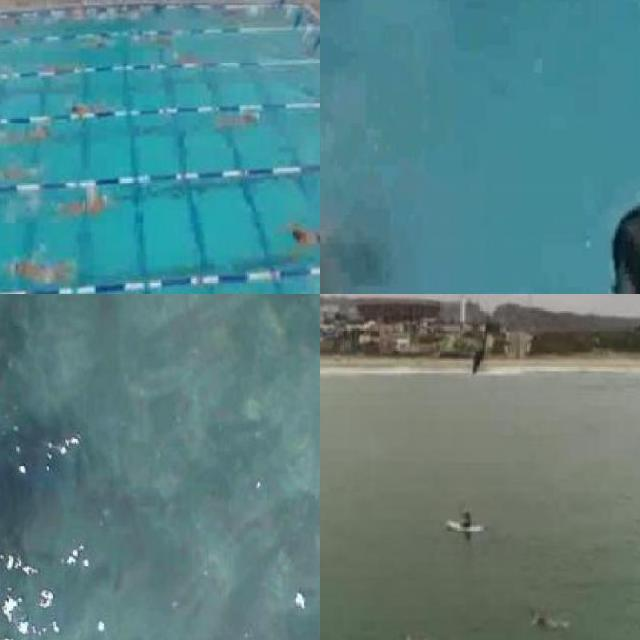drowning: (320, 87, 412, 294)
swimming: (581, 177, 640, 294), (12, 254, 81, 285), (283, 217, 320, 262), (59, 189, 115, 218), (38, 49, 80, 80), (7, 120, 49, 149), (219, 108, 259, 137), (532, 604, 570, 633), (63, 94, 105, 118), (0, 159, 28, 188), (399, 625, 440, 640)
